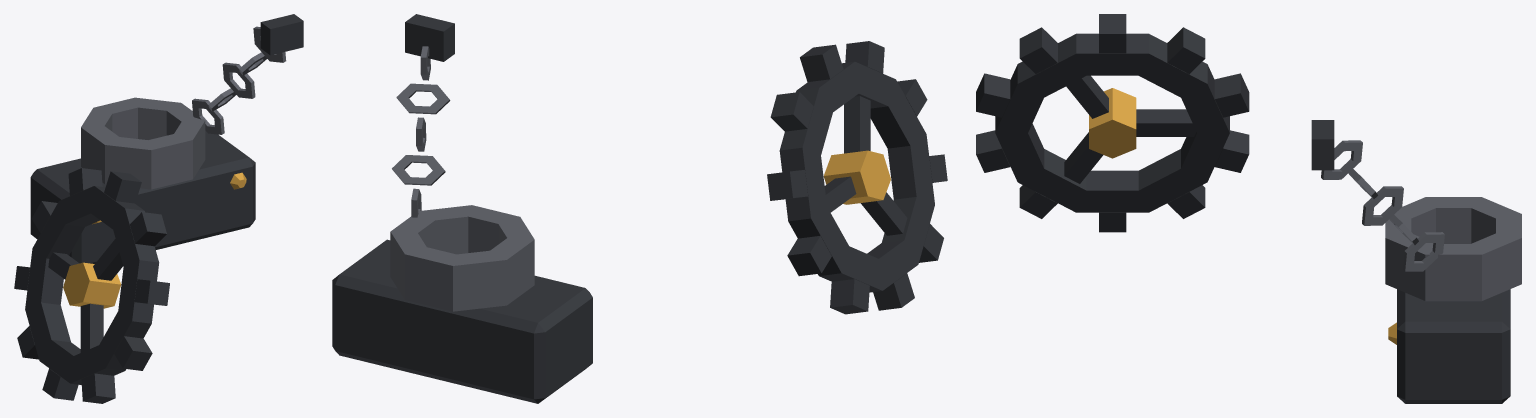
File: HarpoonDressA2.obj
3 renders of one model, left to right at view 1: azimuth 30°, elevation 25°; view 2: azimuth 150°, elevation 25°; view 3: azimuth 270°, elevation 25°, orthographic. The views are drawn at different scales.
Parts seen in each view (by area): view 1: HarpoonDressA2; view 2: HarpoonDressA2; view 3: HarpoonDressA2.
Boxes of the visible parts, <box> form: HarpoonDressA2: <box>14,14,303,403</box>; HarpoonDressA2: <box>332,14,947,403</box>; HarpoonDressA2: <box>976,14,1521,403</box>.
Size of the model in its own units: 0.8135 by 0.5381 by 0.9603.
